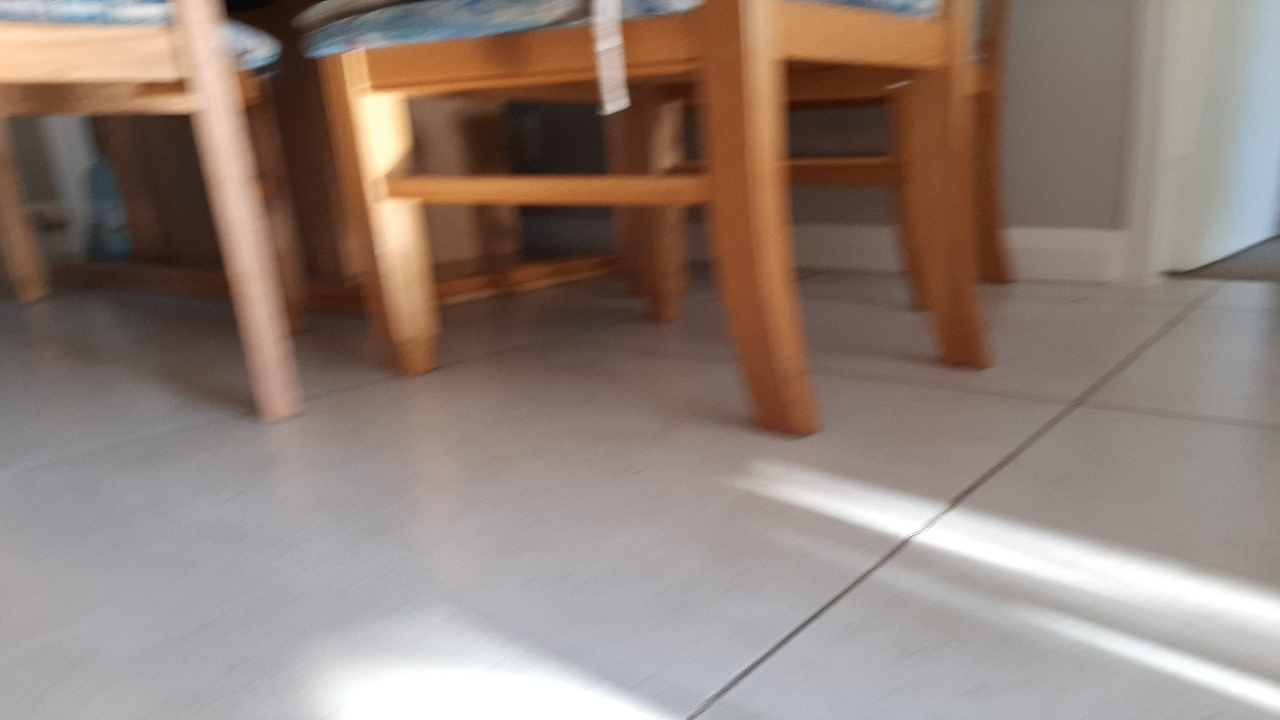chair: (154, 219, 1184, 541)
